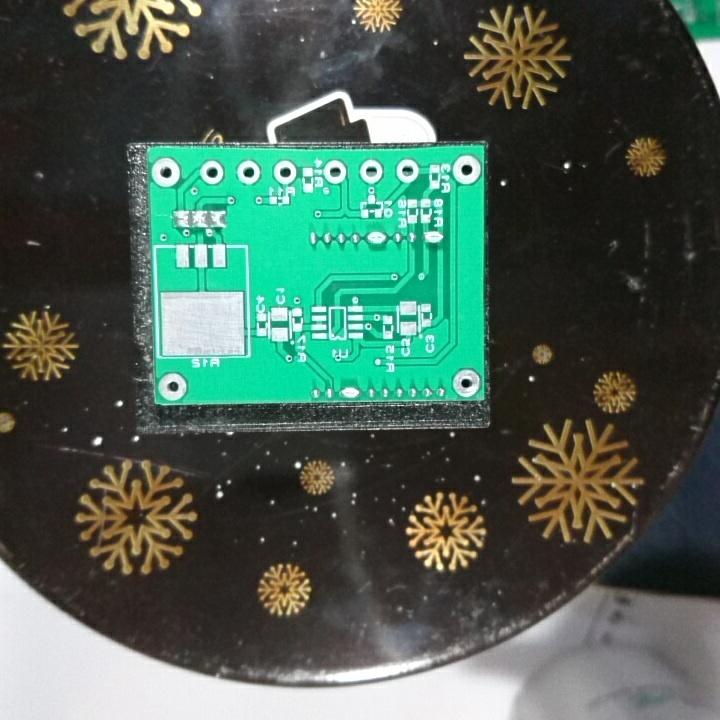F: (450, 153, 482, 186), (156, 371, 189, 403), (150, 155, 180, 190), (450, 366, 482, 398), (197, 155, 225, 187), (392, 156, 422, 185), (234, 157, 263, 187), (356, 158, 386, 186), (321, 157, 349, 186), (271, 156, 298, 186)
P: (365, 228, 389, 247), (337, 382, 362, 400), (422, 227, 444, 247)
